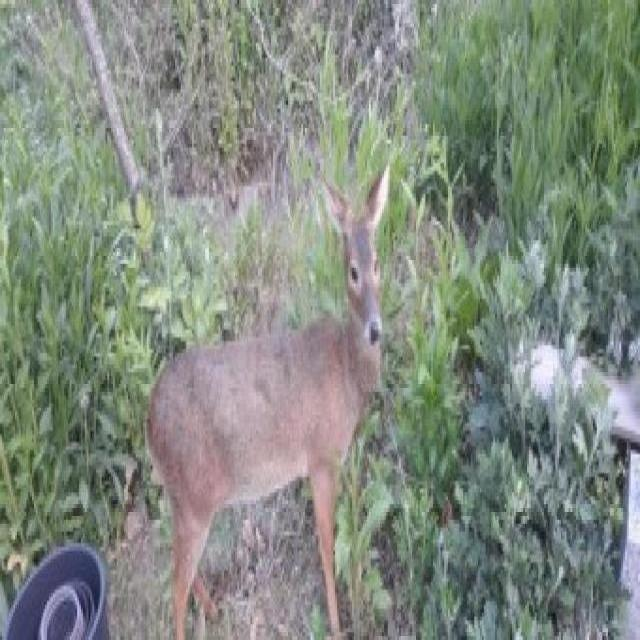deer: (140, 161, 400, 640)
